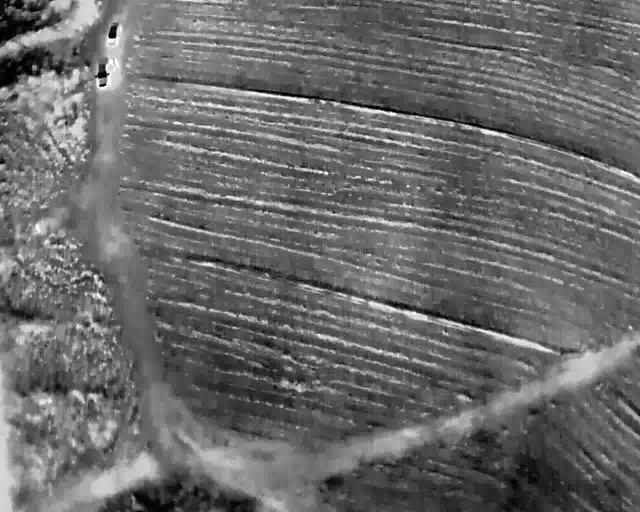car: (95, 58, 109, 87), (107, 19, 119, 46)
person: (34, 224, 41, 233), (114, 58, 119, 68)
